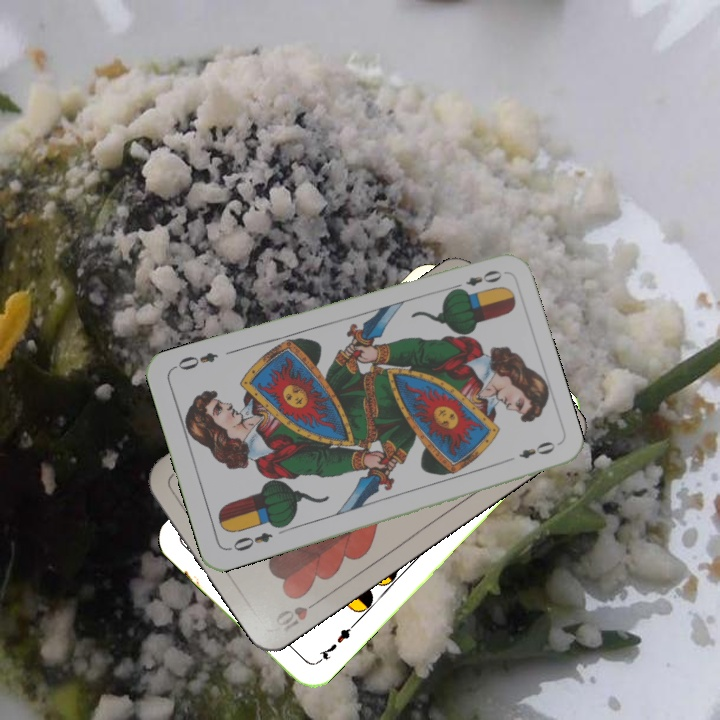E7: (311, 620, 357, 667)
EO: (448, 266, 504, 294), (224, 528, 275, 554)
H10: (271, 594, 325, 636)
